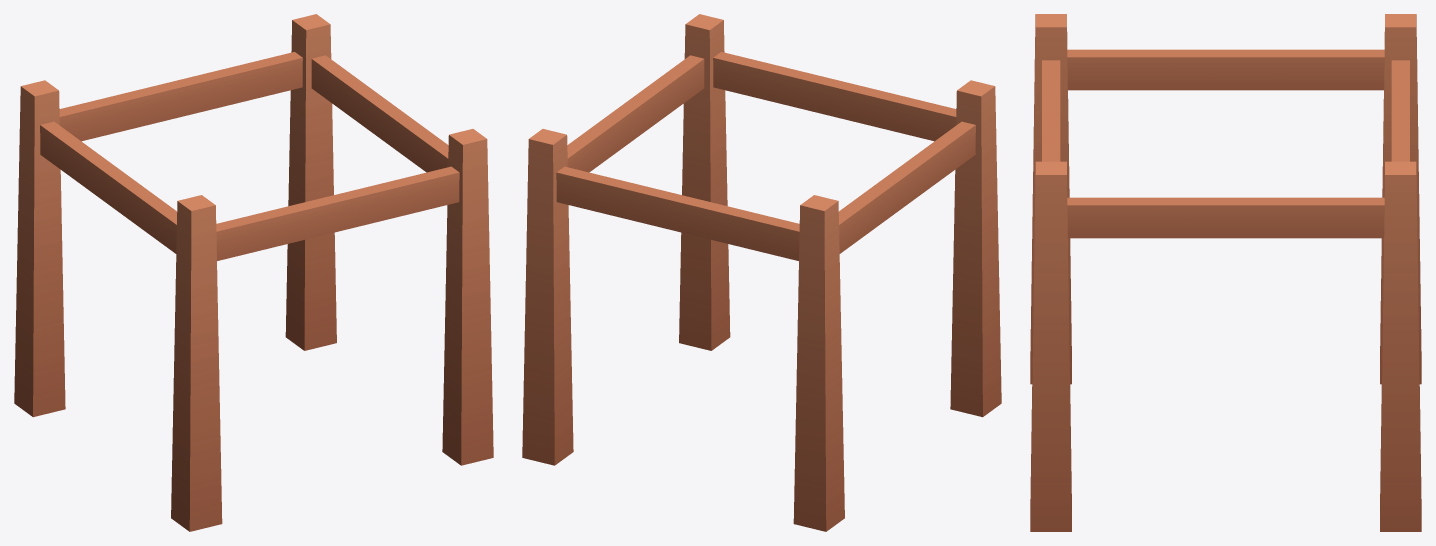
File: structure.obj
3 views of the same model, side by side, from view 1: azimuth 30°, elevation 25°; view 2: azimuth 150°, elevation 25°; view 3: azimuth 270°, elevation 25° (orthographic). The views are drawn at different scales.
Visible parts, largest first — view 1: structure; view 2: structure; view 3: structure.
Part boxes in pixels (x1,y1,x2,y2): structure: (14,14,493,531); structure: (522,14,1001,531); structure: (1030,14,1421,531).
Size of the model in its own units: 0.5 by 0.5 by 0.5.
Materials: 1 (1 with a texture image).
